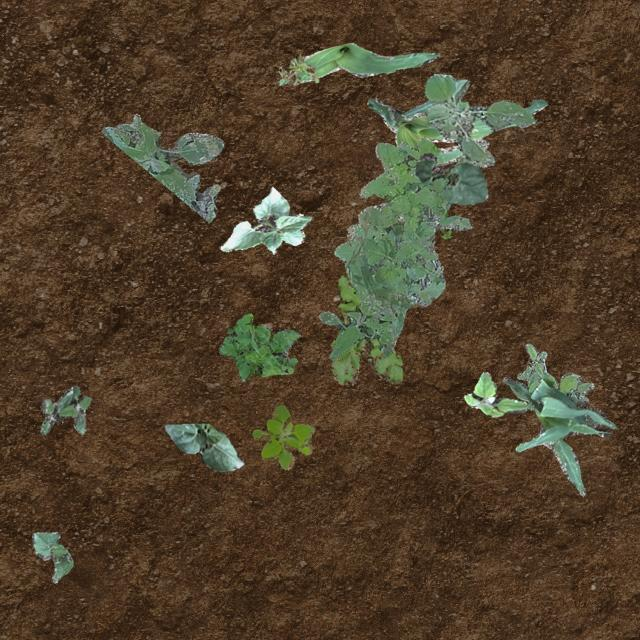crop: (502, 376, 614, 496), (366, 98, 546, 164), (278, 42, 438, 84), (220, 186, 310, 252), (413, 152, 488, 204), (164, 422, 244, 470), (30, 532, 72, 582)
weed: (334, 136, 471, 354), (329, 210, 452, 384), (100, 115, 222, 222), (424, 72, 536, 166), (218, 312, 300, 380), (510, 342, 592, 408), (318, 297, 396, 358), (252, 404, 314, 468), (462, 370, 526, 416), (40, 384, 90, 434), (278, 52, 318, 84)
